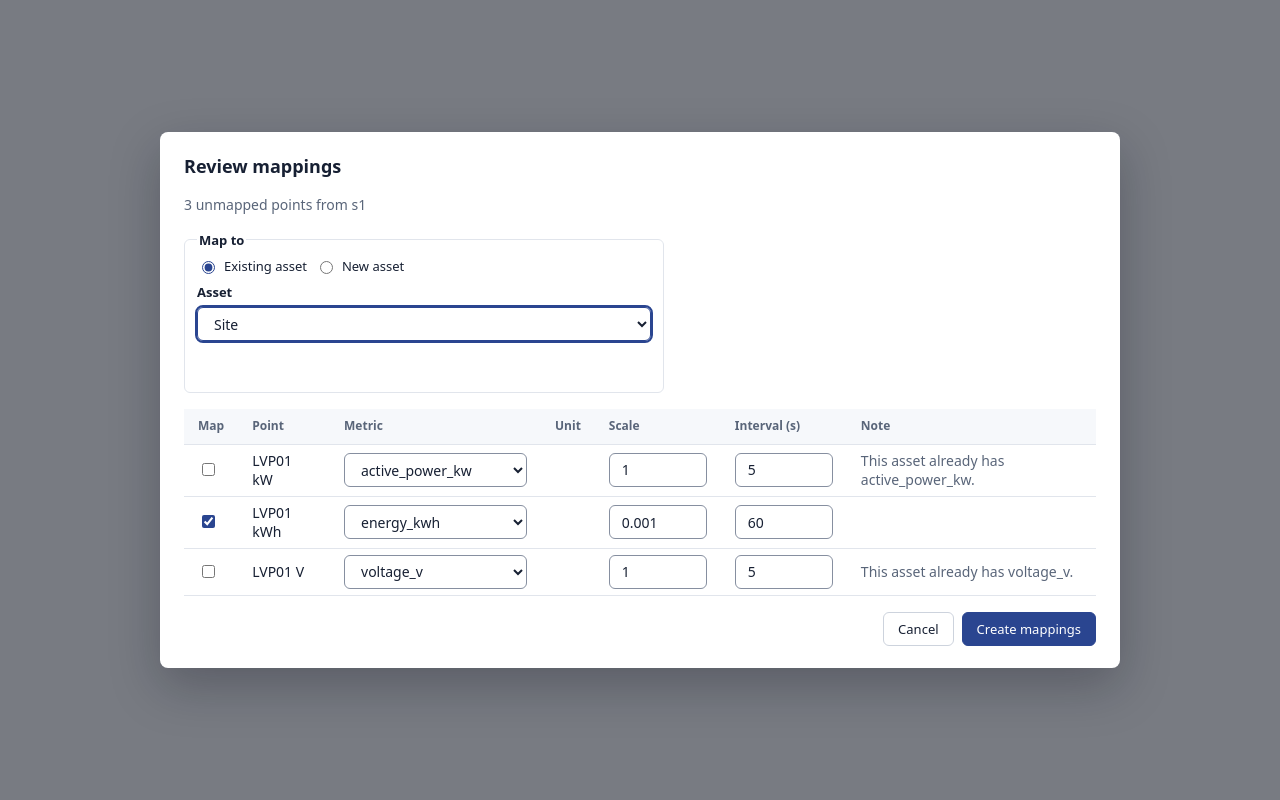
ReviewDialog › checking a conflicting row disables the button and names the conflict
Step 1. Click the checkbox named "Map LVP01 kW" → (208, 469), box [202,463,215,476]
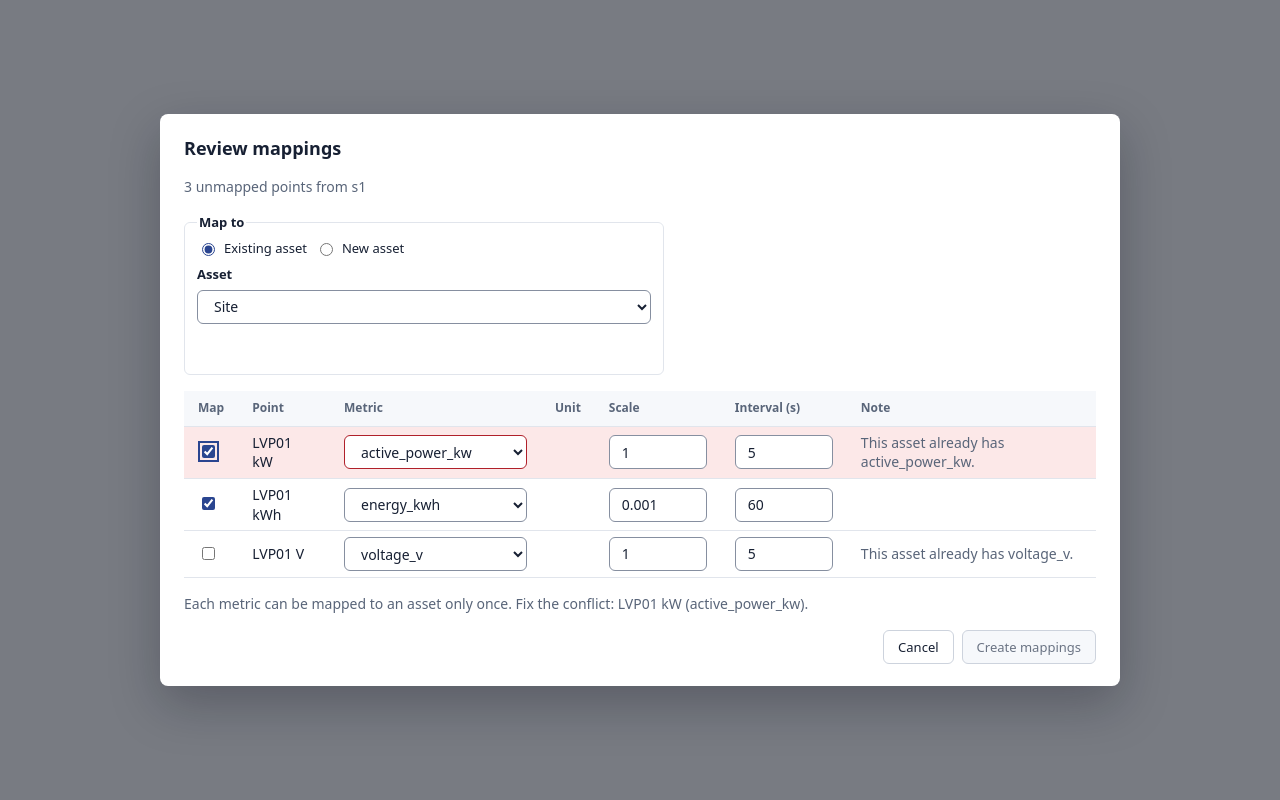
Expected: the button "Create mappings" is disabled, [962,630,1096,664]
Expected: the text "Each metric can be mapped to an asset only once" shows "LVP01 kW (active_power_kw)", [184,594,808,613]
Step 2. Click the checkbox named "Map LVP01 kW" → (208, 452), box [202,445,215,458]
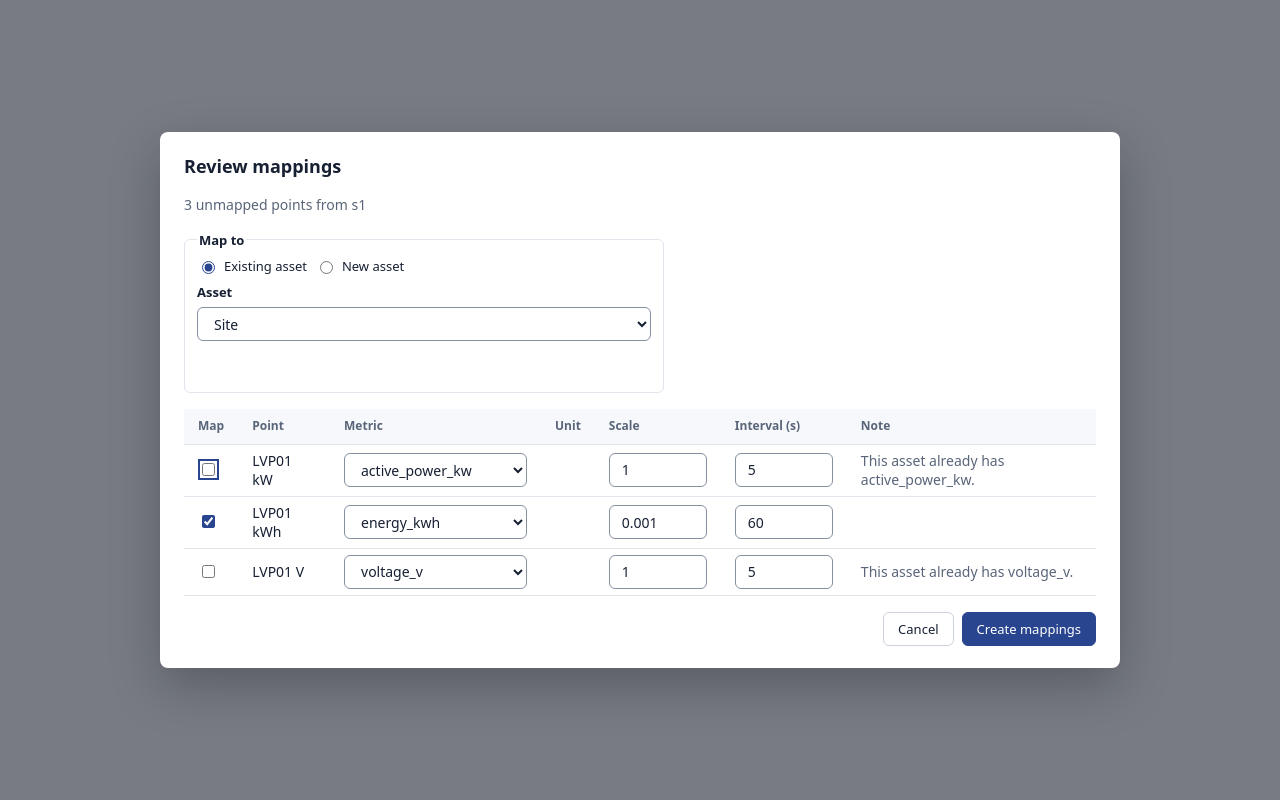
Expected: the button "Create mappings" is enabled, [962,612,1096,646]
